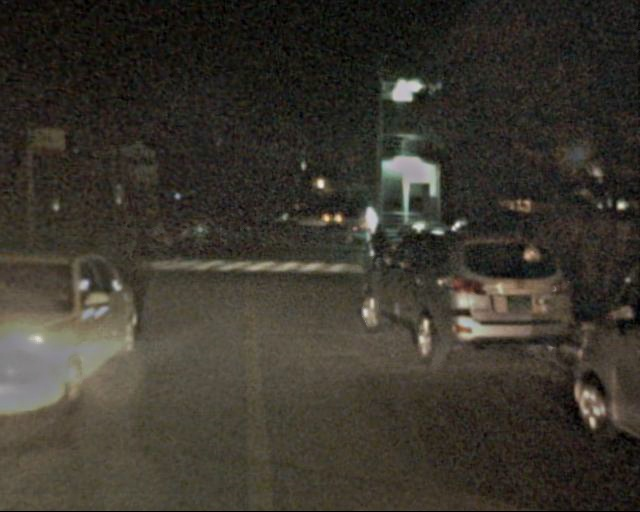person: (115, 214, 140, 276), (367, 224, 391, 282), (171, 213, 185, 257)
